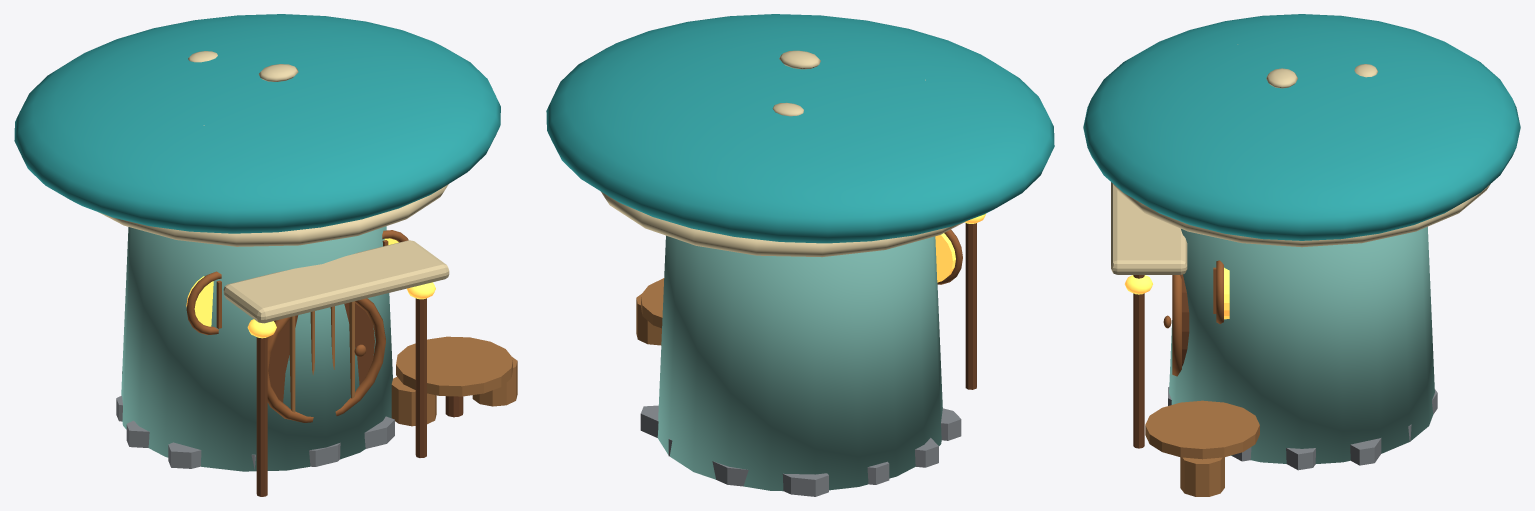
File: glowcap_tea_house.glb
3 renders of one model, left to right at view 1: azimuth 30°, elevation 25°; view 2: azimuth 150°, elevation 25°; view 3: azimuth 270°, elevation 25°, orthographic. The views are drawn at different scales.
Visible parts, largest first — view 1: mushroom_cap, organic_plaster_stem, tea_awning, tea_table, cap_underside_rim, door_copper_frame, round_door, awning_post, awning_post.001, tea_stool, tea_stool.001, window_frame (+6 smaller); view 2: mushroom_cap, organic_plaster_stem, cap_underside_rim, awning_post, foundation_stone_4, tea_table, round_window, tea_stool.001, cap_freckle_4, foundation_stone_3, foundation_stone_7, foundation_stone_6; view 3: mushroom_cap, organic_plaster_stem, tea_table, tea_awning, cap_underside_rim, awning_post.001, tea_stool.001, door_copper_frame, foundation_stone_1, foundation_stone_0, round_door, cap_freckle_4 (+1 smaller).
Part boxes in pixels (<box>): mushroom_cap: <box>14,14,500,233</box>; organic_plaster_stem: <box>121,226,392,471</box>; tea_awning: <box>223,240,449,323</box>; tea_table: <box>396,336,512,396</box>; cap_underside_rim: <box>98,184,448,246</box>; door_copper_frame: <box>267,298,385,422</box>; round_door: <box>268,303,374,402</box>; awning_post: <box>256,337,267,496</box>; awning_post.001: <box>415,298,426,457</box>; tea_stool: <box>391,377,436,426</box>; tea_stool.001: <box>472,357,517,406</box>; window_frame: <box>186,271,221,335</box>; mushroom_cap: <box>546,14,1054,243</box>; organic_plaster_stem: <box>657,235,942,491</box>; cap_underside_rim: <box>601,191,965,257</box>; awning_post: <box>965,223,976,389</box>; foundation_stone_4: <box>782,473,828,496</box>; tea_table: <box>641,278,664,328</box>; round_window: <box>935,233,955,282</box>; tea_stool.001: <box>636,294,661,345</box>; cap_freckle_4: <box>779,50,820,69</box>; foundation_stone_3: <box>712,461,748,486</box>; foundation_stone_7: <box>941,408,961,440</box>; foundation_stone_6: <box>915,438,938,467</box>; mushroom_cap: <box>1083,14,1520,240</box>; organic_plaster_stem: <box>1169,226,1434,463</box>; tea_table: <box>1145,400,1259,459</box>; tea_awning: <box>1111,182,1187,274</box>; cap_underside_rim: <box>1113,184,1490,247</box>; awning_post.001: <box>1133,275,1144,448</box>; tea_stool.001: <box>1180,457,1224,496</box>; door_copper_frame: <box>1172,275,1181,376</box>; foundation_stone_1: <box>1350,438,1381,465</box>; foundation_stone_0: <box>1286,448,1315,470</box>; round_door: <box>1180,274,1189,366</box>; cap_freckle_4: <box>1266,68,1297,88</box>.
Size of the model in its own units: 6.1 by 4.72 by 5.5.
